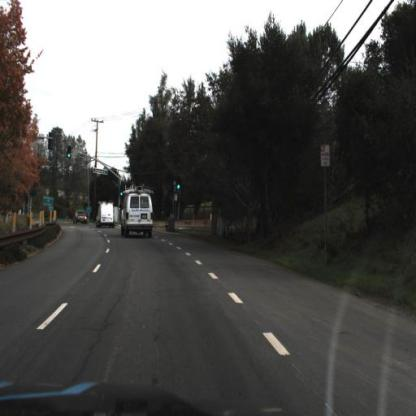car: (123, 190, 154, 237), (97, 200, 115, 231), (73, 207, 88, 228)
trafficLight-Green: (65, 140, 77, 163), (176, 182, 185, 198), (176, 175, 185, 189), (117, 189, 125, 203)
